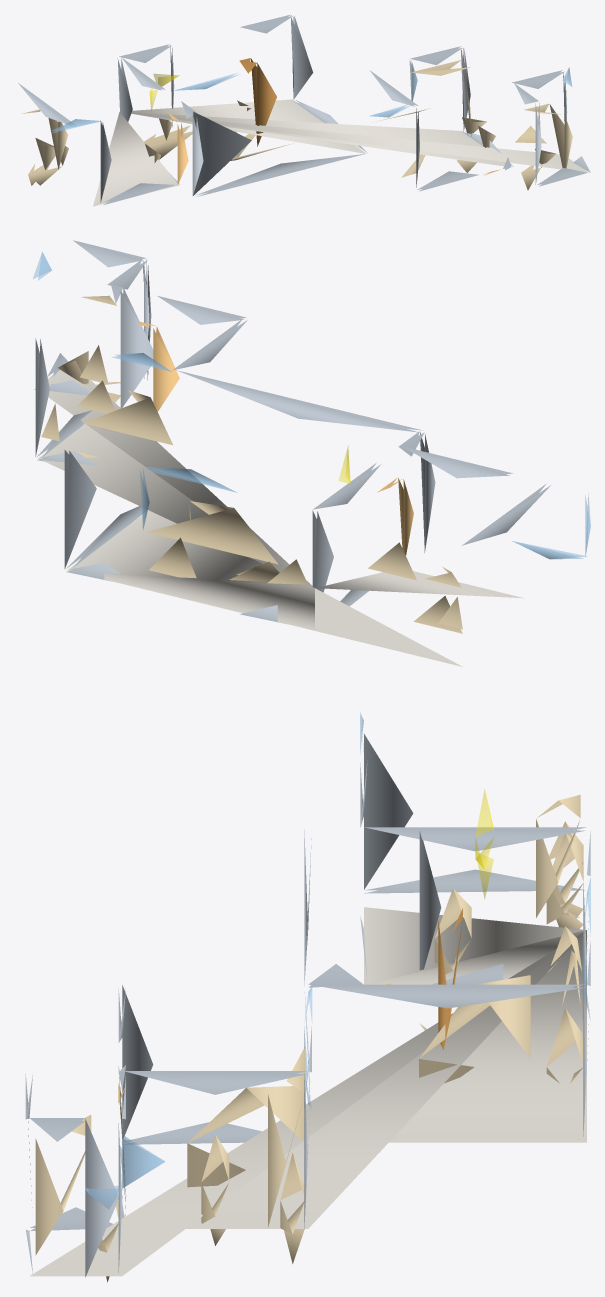
3 views of the same model, one above another, from view 1: azimuth 30°, elevation 25°; view 2: azimuth 150°, elevation 25°; view 3: azimuth 270°, elevation 25° (orthographic). The views are drawn at different scales.
Parts seen in each view (by area): view 1: floor (×4), box_6.00x2.80x0.12, box_1.80x2.80x0.12 (×5), box_2.70x2.80x0.12 (×2), box_4.50x2.80x0.12, box_0.40x2.80x0.40, box_3.60x2.80x0.12 (×2), box_3.00x2.80x0.12 (×2), box_0.90x2.10x0.90, box_0.90x2.80x0.12, box_2.20x2.80x0.12, box_0.91x1.78x0.72 (+12 smaller); view 2: floor (×4), box_3.20x0.85x1.80, box_4.50x2.80x0.12, box_6.00x2.80x0.12, box_0.30x2.80x0.12, box_3.60x2.80x0.12 (×2), box_3.00x2.80x0.12 (×2), box_2.20x1.05x1.90, box_2.70x2.80x0.12 (×2), box_1.20x0.75x0.60 (×2), box_0.80x2.10x0.13, box_0.90x2.80x0.12 (+11 smaller); view 3: floor (×4), box_3.60x2.80x0.12 (×2), box_3.00x2.80x0.12 (×2), box_2.20x1.05x1.90, box_4.50x2.80x0.12, box_0.90x2.80x0.12, box_3.20x0.85x1.80, box_1.20x0.75x0.60 (×2), box_2.70x2.80x0.12, box_0.90x2.10x0.90, box_1.80x2.40x0.60, box_0.91x1.78x0.72 (+7 smaller).
Boxes of the visible parts, box(x1,y1,x2,y2) form: floor (×4): box(93, 99, 588, 206); box_6.00x2.80x0.12: box(193, 111, 364, 197); box_1.80x2.80x0.12 (×5): box(119, 14, 586, 186); box_2.70x2.80x0.12 (×2): box(100, 57, 174, 205); box_4.50x2.80x0.12: box(290, 16, 367, 152); box_0.40x2.80x0.40: box(239, 58, 276, 146); box_3.60x2.80x0.12 (×2): box(18, 58, 180, 184); box_3.00x2.80x0.12 (×2): box(369, 49, 513, 166); box_0.90x2.10x0.90: box(524, 103, 572, 168); box_0.90x2.80x0.12: box(181, 101, 203, 196); box_2.20x2.80x0.12: box(416, 108, 478, 191); box_0.91x1.78x0.72: box(21, 109, 67, 175); floor (×4): box(38, 370, 523, 666); box_3.20x0.85x1.80: box(147, 501, 278, 564); box_4.50x2.80x0.12: box(64, 450, 147, 569); box_6.00x2.80x0.12: box(177, 370, 422, 432); box_0.30x2.80x0.12: box(111, 284, 153, 408); box_3.60x2.80x0.12 (×2): box(312, 483, 550, 606); box_3.00x2.80x0.12 (×2): box(35, 319, 247, 457); box_2.20x1.05x1.90: box(83, 390, 172, 445); box_2.70x2.80x0.12 (×2): box(313, 446, 513, 509); box_1.20x0.75x0.60 (×2): box(368, 542, 462, 633); box_0.80x2.10x0.13: box(138, 321, 179, 411); box_0.90x2.80x0.12: box(398, 431, 435, 552); floor (×4): box(30, 907, 586, 1276); box_3.60x2.80x0.12 (×2): box(364, 734, 586, 893); box_3.00x2.80x0.12 (×2): box(122, 985, 307, 1144); box_2.20x1.05x1.90: box(187, 1086, 304, 1187); box_4.50x2.80x0.12: box(310, 984, 585, 1008); box_0.90x2.80x0.12: box(30, 1118, 118, 1277); box_3.20x0.85x1.80: box(419, 975, 530, 1083); box_1.20x0.75x0.60 (×2): box(434, 834, 583, 974); box_2.70x2.80x0.12: box(419, 831, 503, 984); box_0.90x2.10x0.90: box(35, 1115, 91, 1255); box_1.80x2.40x0.60: box(268, 1047, 304, 1227); box_0.91x1.78x0.72: box(536, 794, 580, 917).
Bounding box in the file's own units: 15.8 × 4.38 × 9.32.
